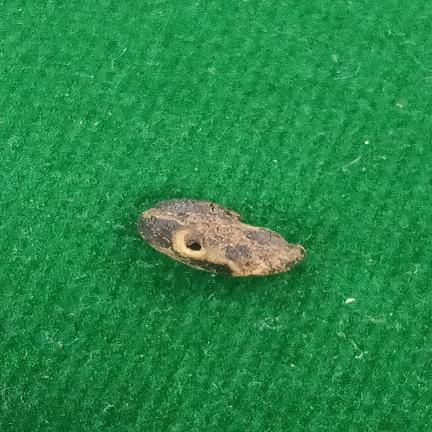partial-black: (137, 199, 306, 277)
